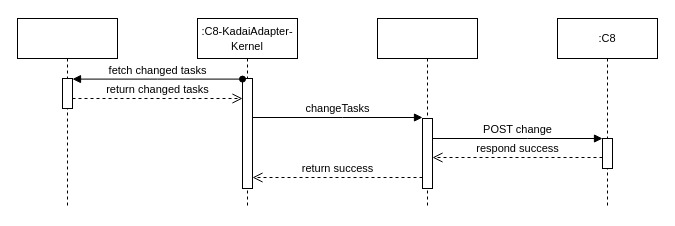
Image size: 675x226. Some labels were removed from this diagram. Each missing label, with the centre of its shape:
":C8-KadaiAdapter-Plugin (Outbound-System-Connector)" belongs at (427,113).
":Kadai" belongs at (67,113).
